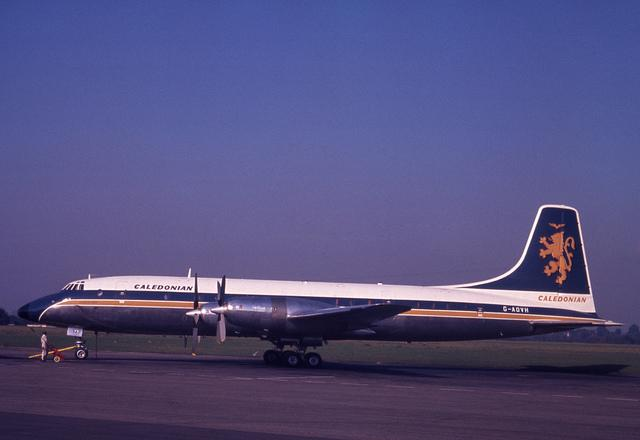airplane: (16, 202, 625, 369)
